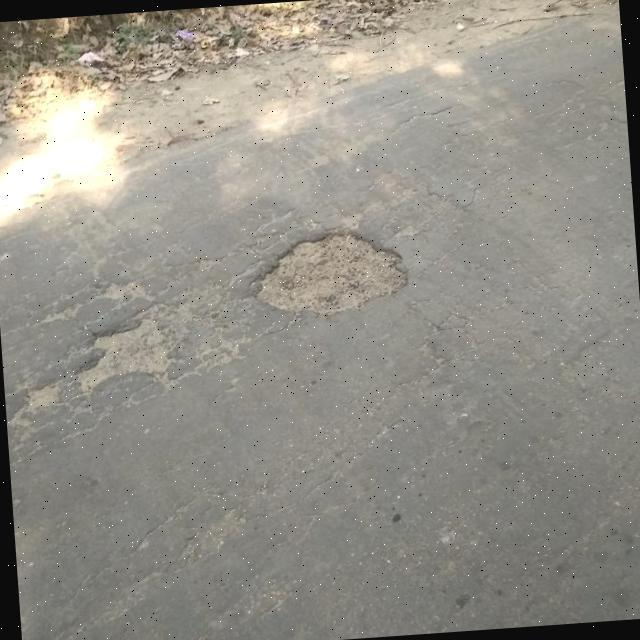Pothole: (253, 230, 409, 320)
